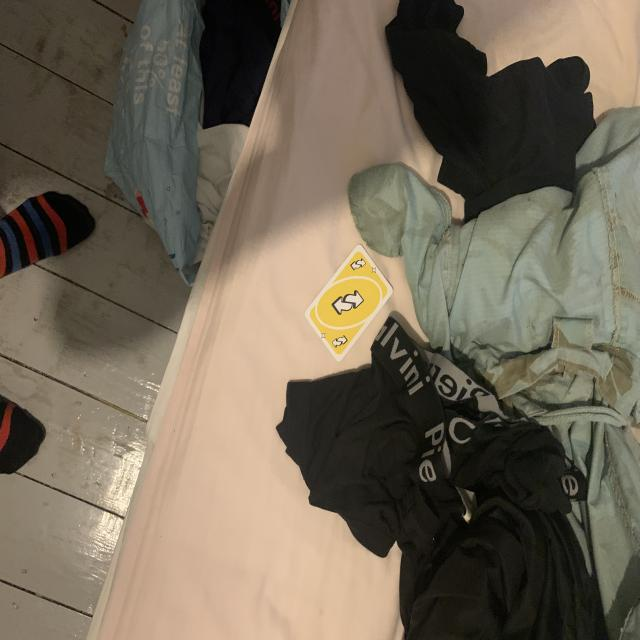lyellowrevers-20: (349, 256, 367, 274)
